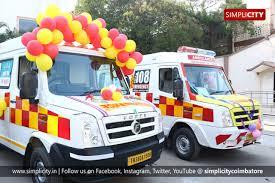ER: (0, 33, 164, 167), (126, 51, 265, 155)
